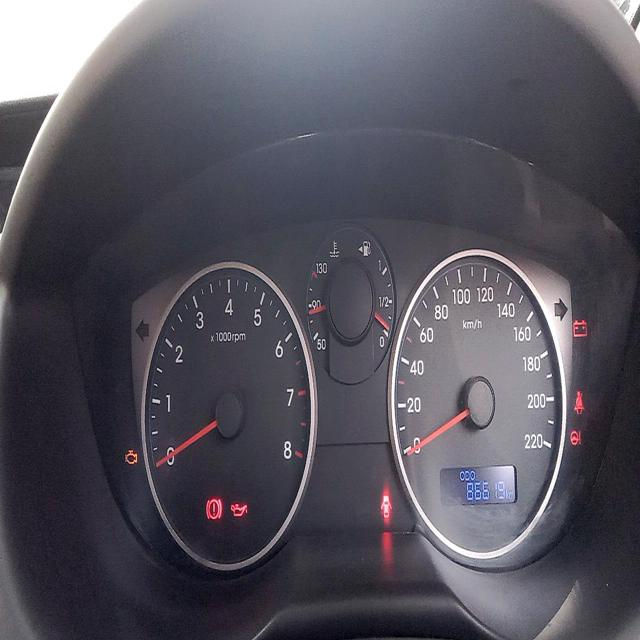odometer: (463, 479, 506, 504)
